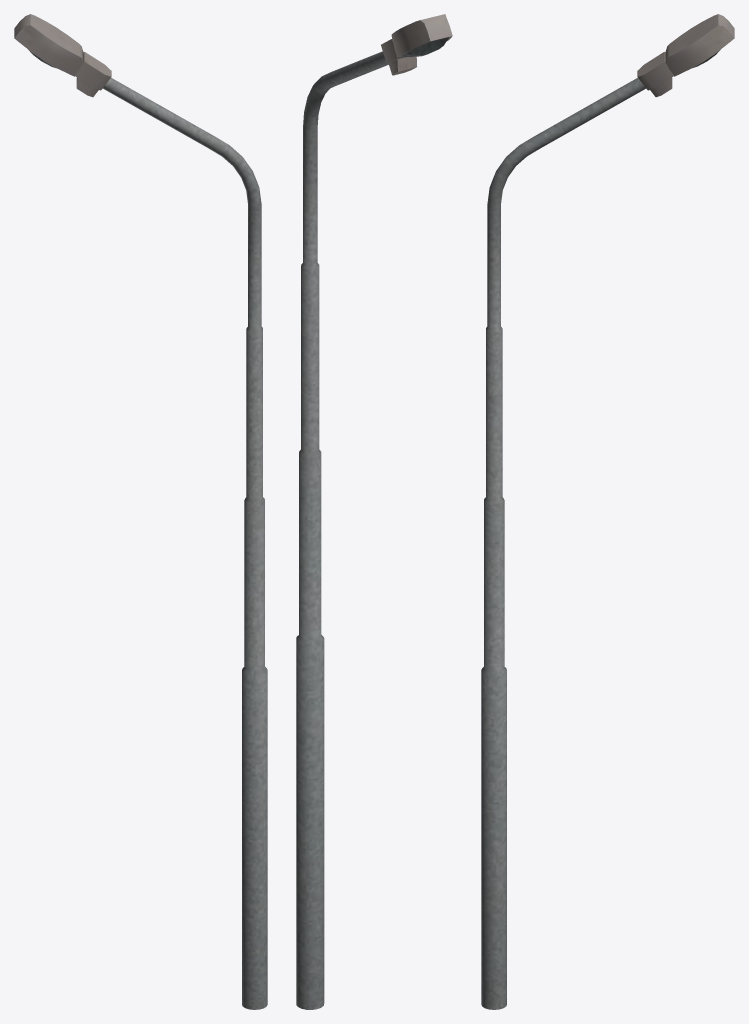
The model's file is lamp_383.glb.
The picture shows the model from 3 angles, left to right: view 1: azimuth 90°, elevation 25°; view 2: azimuth 210°, elevation 25°; view 3: azimuth 270°, elevation 25°; orthographic projection. The views are drawn at different scales.
Parts seen in each view (by area): view 1: lamp_383; view 2: lamp_383; view 3: lamp_383.
Part boxes in pixels (bbox=[...]): lamp_383: bbox=[14, 14, 267, 1009]; lamp_383: bbox=[296, 14, 452, 1009]; lamp_383: bbox=[481, 14, 734, 1009].
Size of the model in its own units: 0.175 by 4.7 by 1.1.
1 material, 1 textured.
